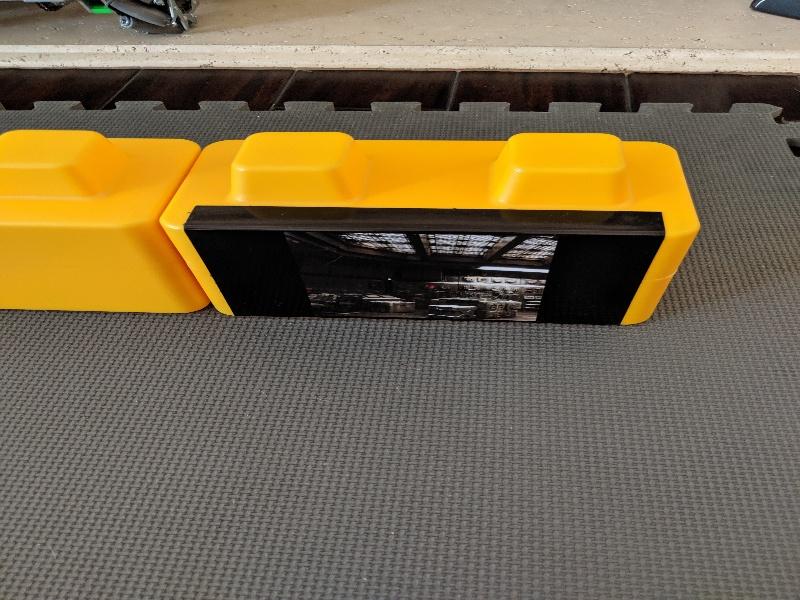Skystone: (173, 197, 671, 338)
